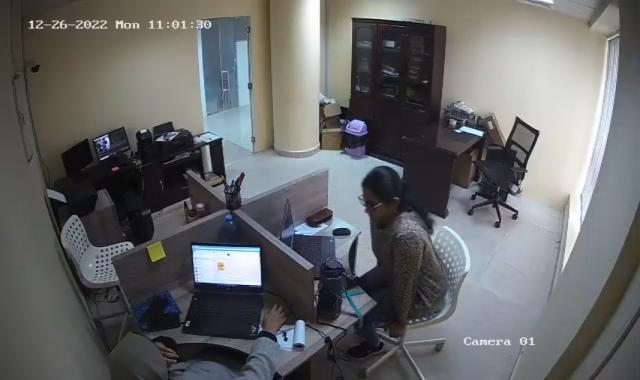no_hairnet: (109, 332, 158, 380), (364, 166, 406, 220)
